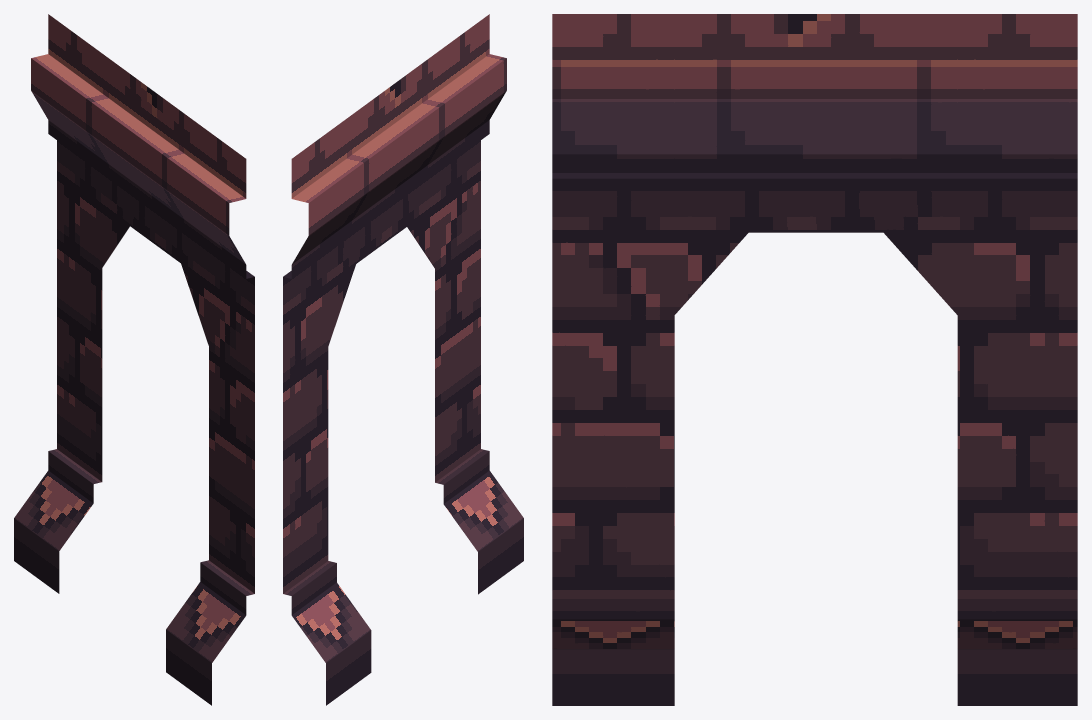
File: wall_door.fbx
3 views of the same model, side by side, from view 1: azimuth 30°, elevation 25°; view 2: azimuth 150°, elevation 25°; view 3: azimuth 270°, elevation 25° (orthographic). The views are drawn at different scales.
Visible parts, largest first — view 1: Plane010; view 2: Plane010; view 3: Plane010.
Boxes of the visible parts, x1,y1,x2,y2 form: Plane010: [14, 14, 254, 705]; Plane010: [283, 14, 523, 705]; Plane010: [552, 14, 1077, 705].
Bounding box in the file's own units: 9.84 × 78.74 × 118.
1 material, 1 textured.
